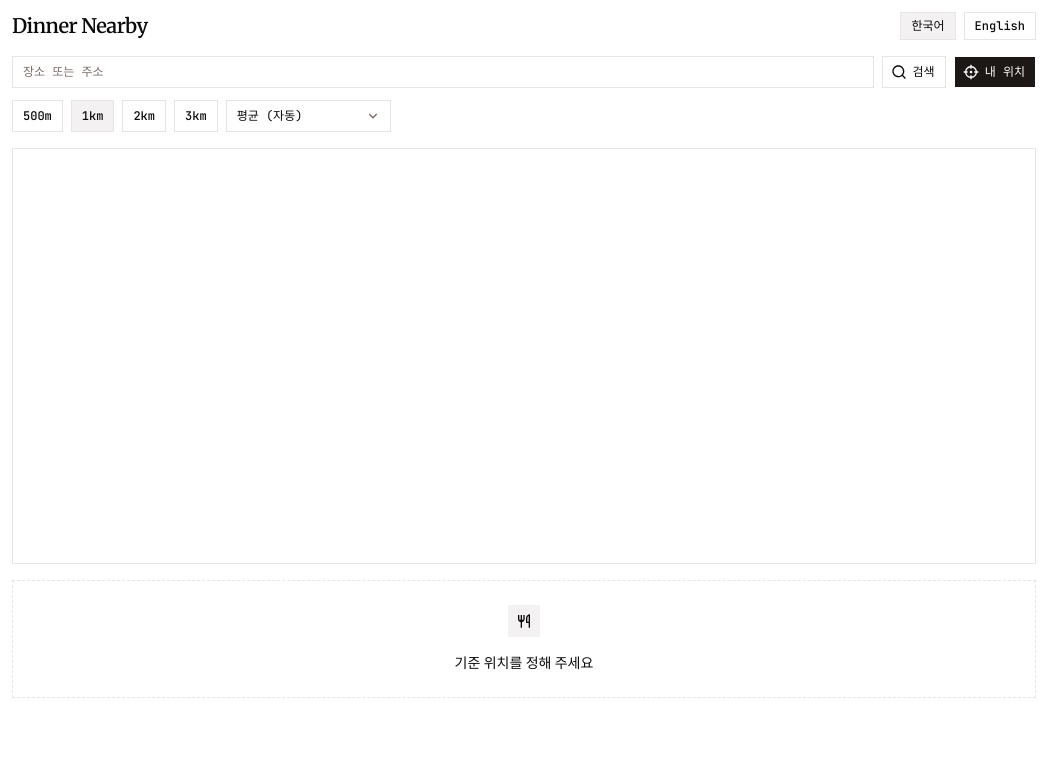
Test: 기준 위치 전에 최소 리뷰 수를 바꿔도 검색하지 않고 선택은 이후 검색에 적용된다
Select "리뷰 500개 이상" in the dropdown named "최소 리뷰 수" at (308, 116), box top-left (226, 100), bottom-right (391, 132)
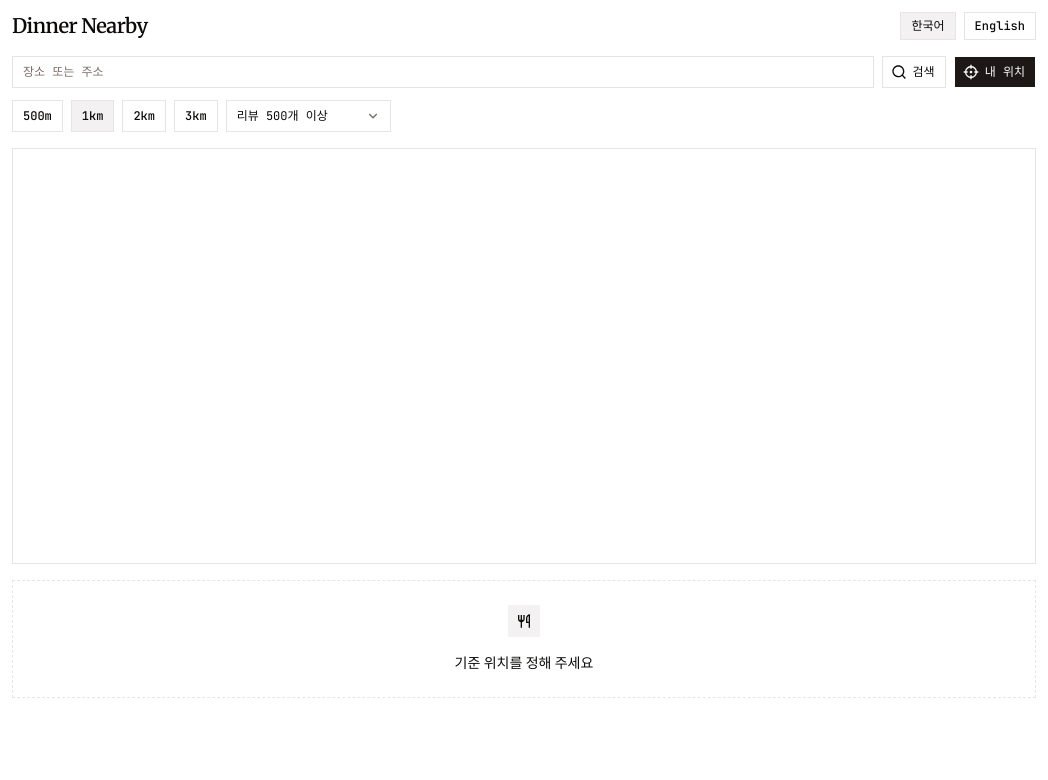
Click the button "내 위치".
click(995, 72)  # box top-left (954, 56), bottom-right (1036, 88)
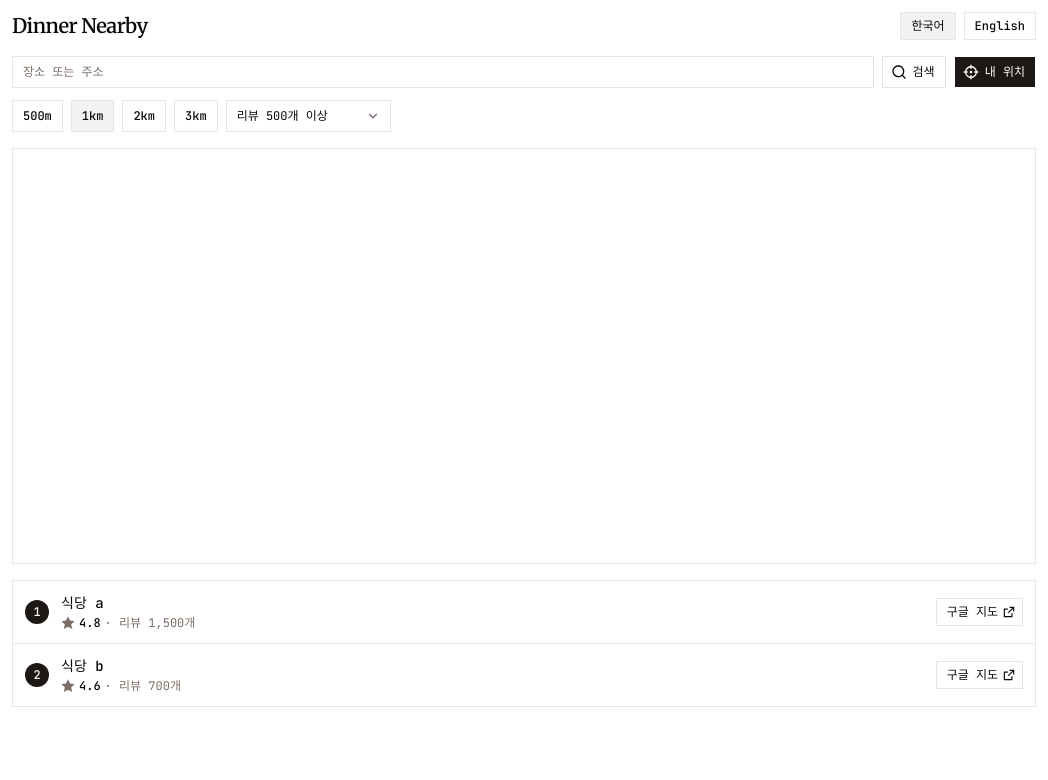
Check: the text "식당 b" is shown, box top-left (61, 657), bottom-right (104, 675)
Check: the text "식당 a" is shown, box top-left (61, 594), bottom-right (104, 612)
